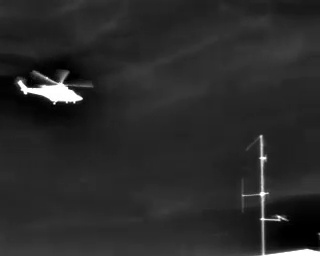HELICOPTER: (14, 62, 98, 113)
